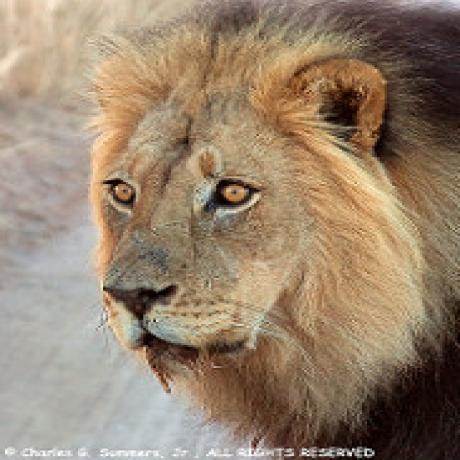Lion: (86, 5, 460, 459)
